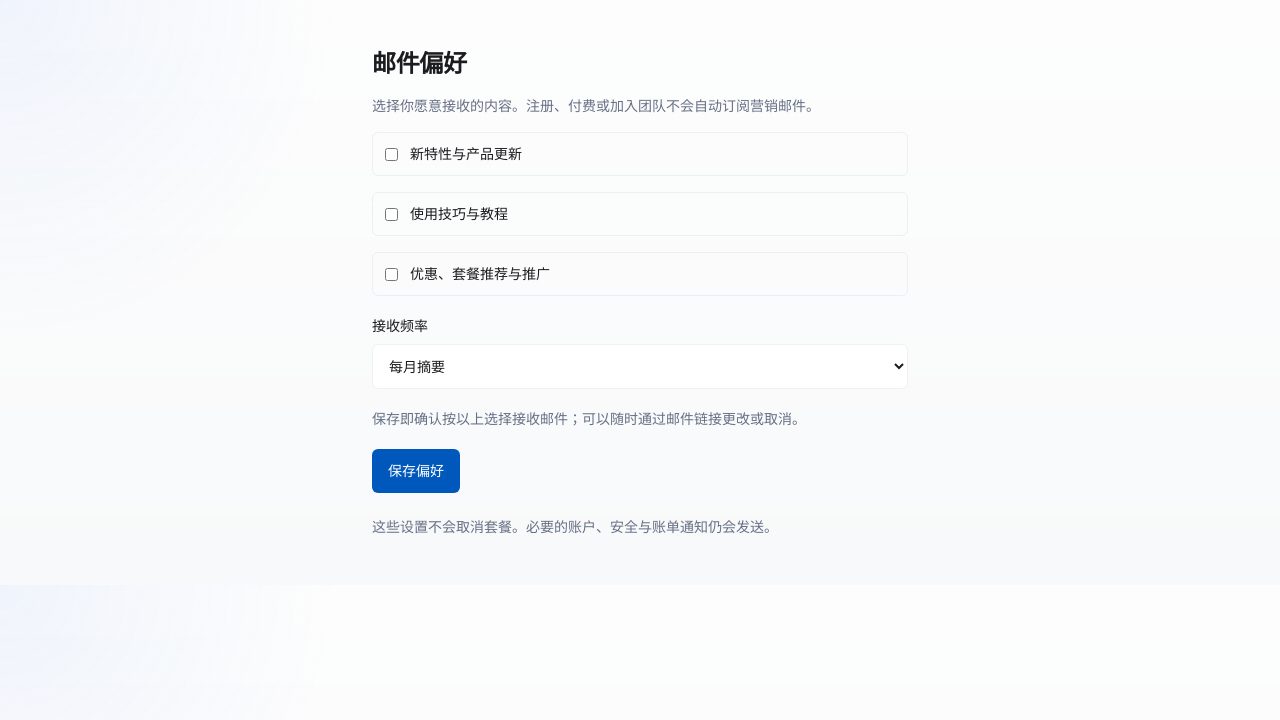
it: self-service email preferences › does not display a success state when persistence fails
Click the button "保存偏好" at (416, 471), box 372,449 -> 460,493
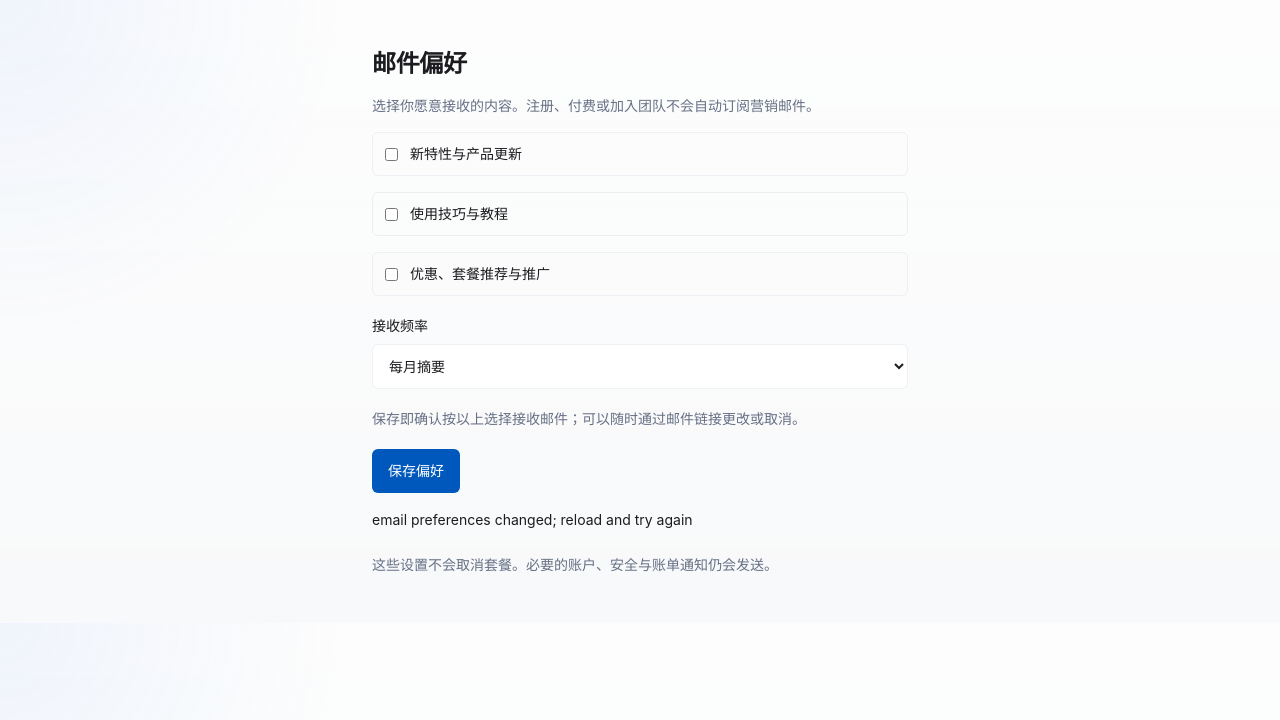
Now the message shows "reload", box 372,511 -> 692,528
